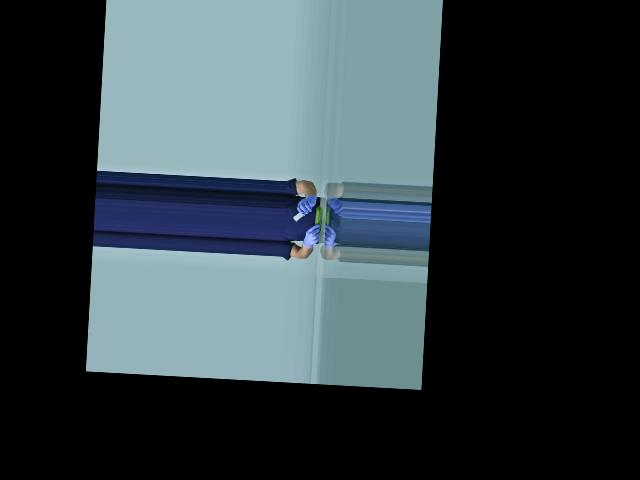cucumber: (314, 205, 323, 233)
